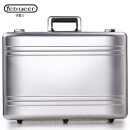shoutibox: (0, 15, 130, 127)
